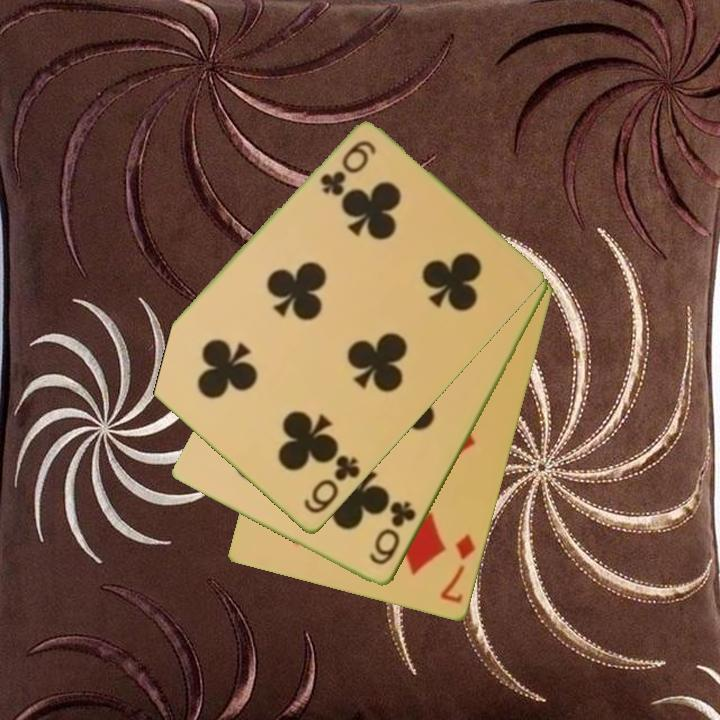6c: (300, 452, 364, 517), (316, 137, 379, 199), (366, 497, 420, 569)
7d: (437, 531, 479, 607)
